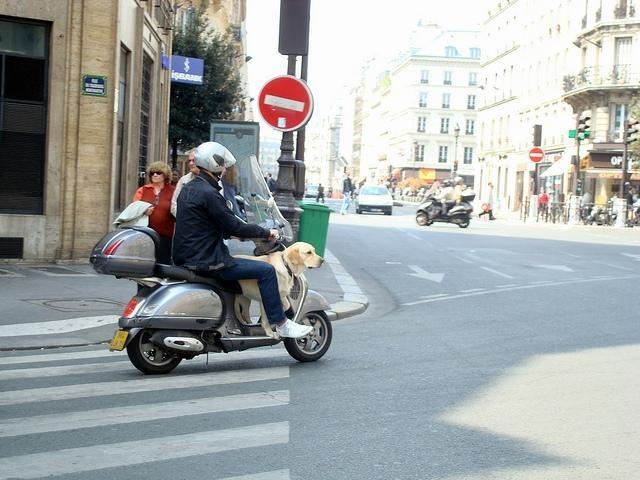car: (354, 183, 394, 216)
motorcycle: (90, 152, 338, 376), (415, 188, 477, 228)
